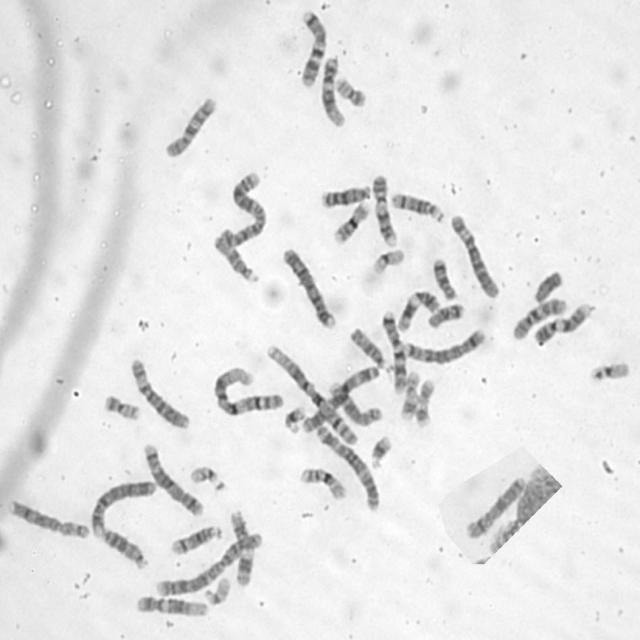A1: (264, 343, 360, 447), (212, 365, 284, 418)
A2: (155, 532, 266, 596), (223, 169, 270, 249)
A3: (316, 424, 381, 512), (301, 364, 381, 435)
B4: (281, 247, 337, 331), (90, 480, 158, 537)
B5: (142, 441, 207, 517), (402, 329, 486, 365)
C10: (164, 96, 217, 159), (512, 296, 568, 341)
C11: (229, 509, 256, 587), (396, 290, 442, 334)
C12: (133, 592, 209, 620), (320, 54, 346, 129)
C6: (128, 358, 192, 431), (449, 214, 502, 302)
C7: (296, 10, 328, 90), (380, 308, 409, 395)
C8: (8, 495, 90, 539), (327, 378, 383, 429)
C9: (534, 302, 593, 345), (371, 173, 398, 247)
D13: (102, 527, 150, 571), (317, 184, 373, 210)
D14: (390, 191, 446, 225), (169, 524, 225, 557)
D15: (211, 232, 262, 286), (347, 324, 394, 373)
E16: (296, 465, 348, 502), (332, 200, 373, 245)
E17: (414, 376, 435, 428), (400, 369, 420, 422)
E18: (432, 256, 458, 302), (425, 304, 465, 330)
F19: (371, 247, 406, 276), (589, 360, 631, 383)
F20: (101, 392, 141, 421), (335, 76, 366, 108)
G21: (370, 433, 394, 471), (283, 402, 306, 436)
G22: (188, 465, 228, 492), (205, 576, 232, 607)
X: (464, 475, 526, 539)
Y: (533, 268, 564, 302)
